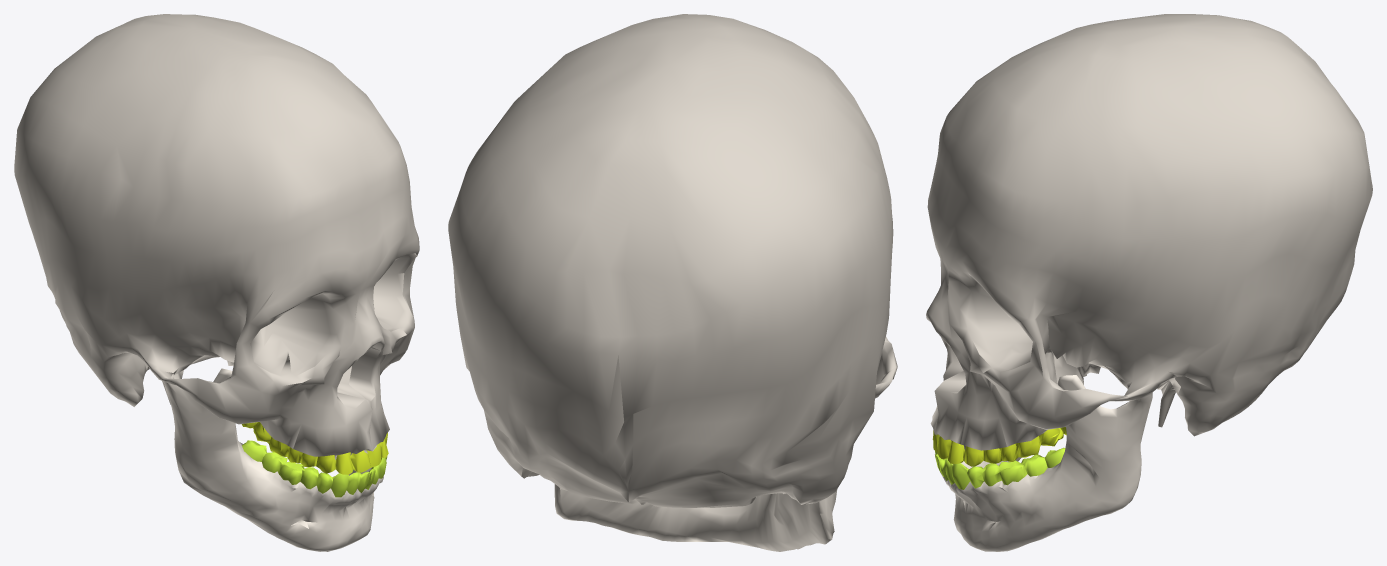
Rendered from skull.dae.
The picture shows the model from 3 angles, left to right: view 1: azimuth 30°, elevation 25°; view 2: azimuth 150°, elevation 25°; view 3: azimuth 270°, elevation 25°; orthographic projection. The views are drawn at different scales.
Parts seen in each view (by area): view 1: skull_001, lteeth_001, uteeth_001; view 2: skull_001, lteeth_001; view 3: skull_001, lteeth_001, uteeth_001.
Boxes of the visible parts, box(x1,y1,x2,y2) form: skull_001: box(14, 14, 419, 459); lteeth_001: box(162, 368, 387, 551); uteeth_001: box(241, 422, 388, 474); skull_001: box(448, 14, 897, 507); lteeth_001: box(554, 484, 837, 551); skull_001: box(926, 14, 1372, 450); lteeth_001: box(935, 375, 1152, 551); uteeth_001: box(932, 427, 1066, 466).
Bounding box in the file's own units: 5.23 × 6.14 × 7.36.
